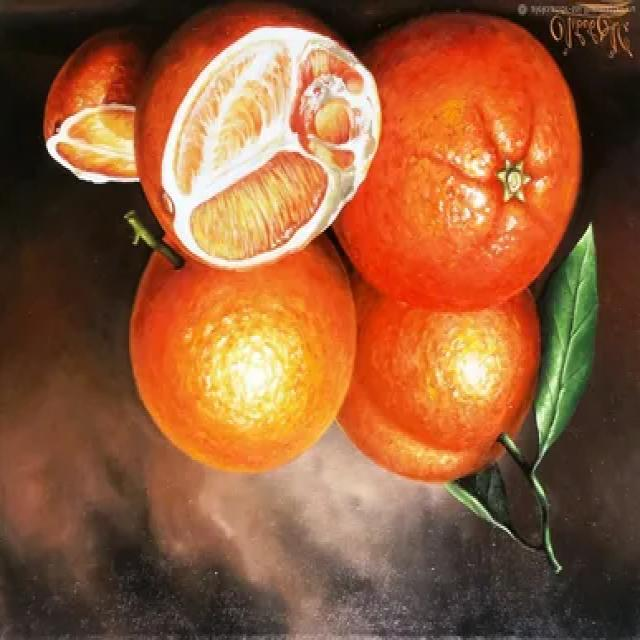orange: (123, 236, 350, 474)
